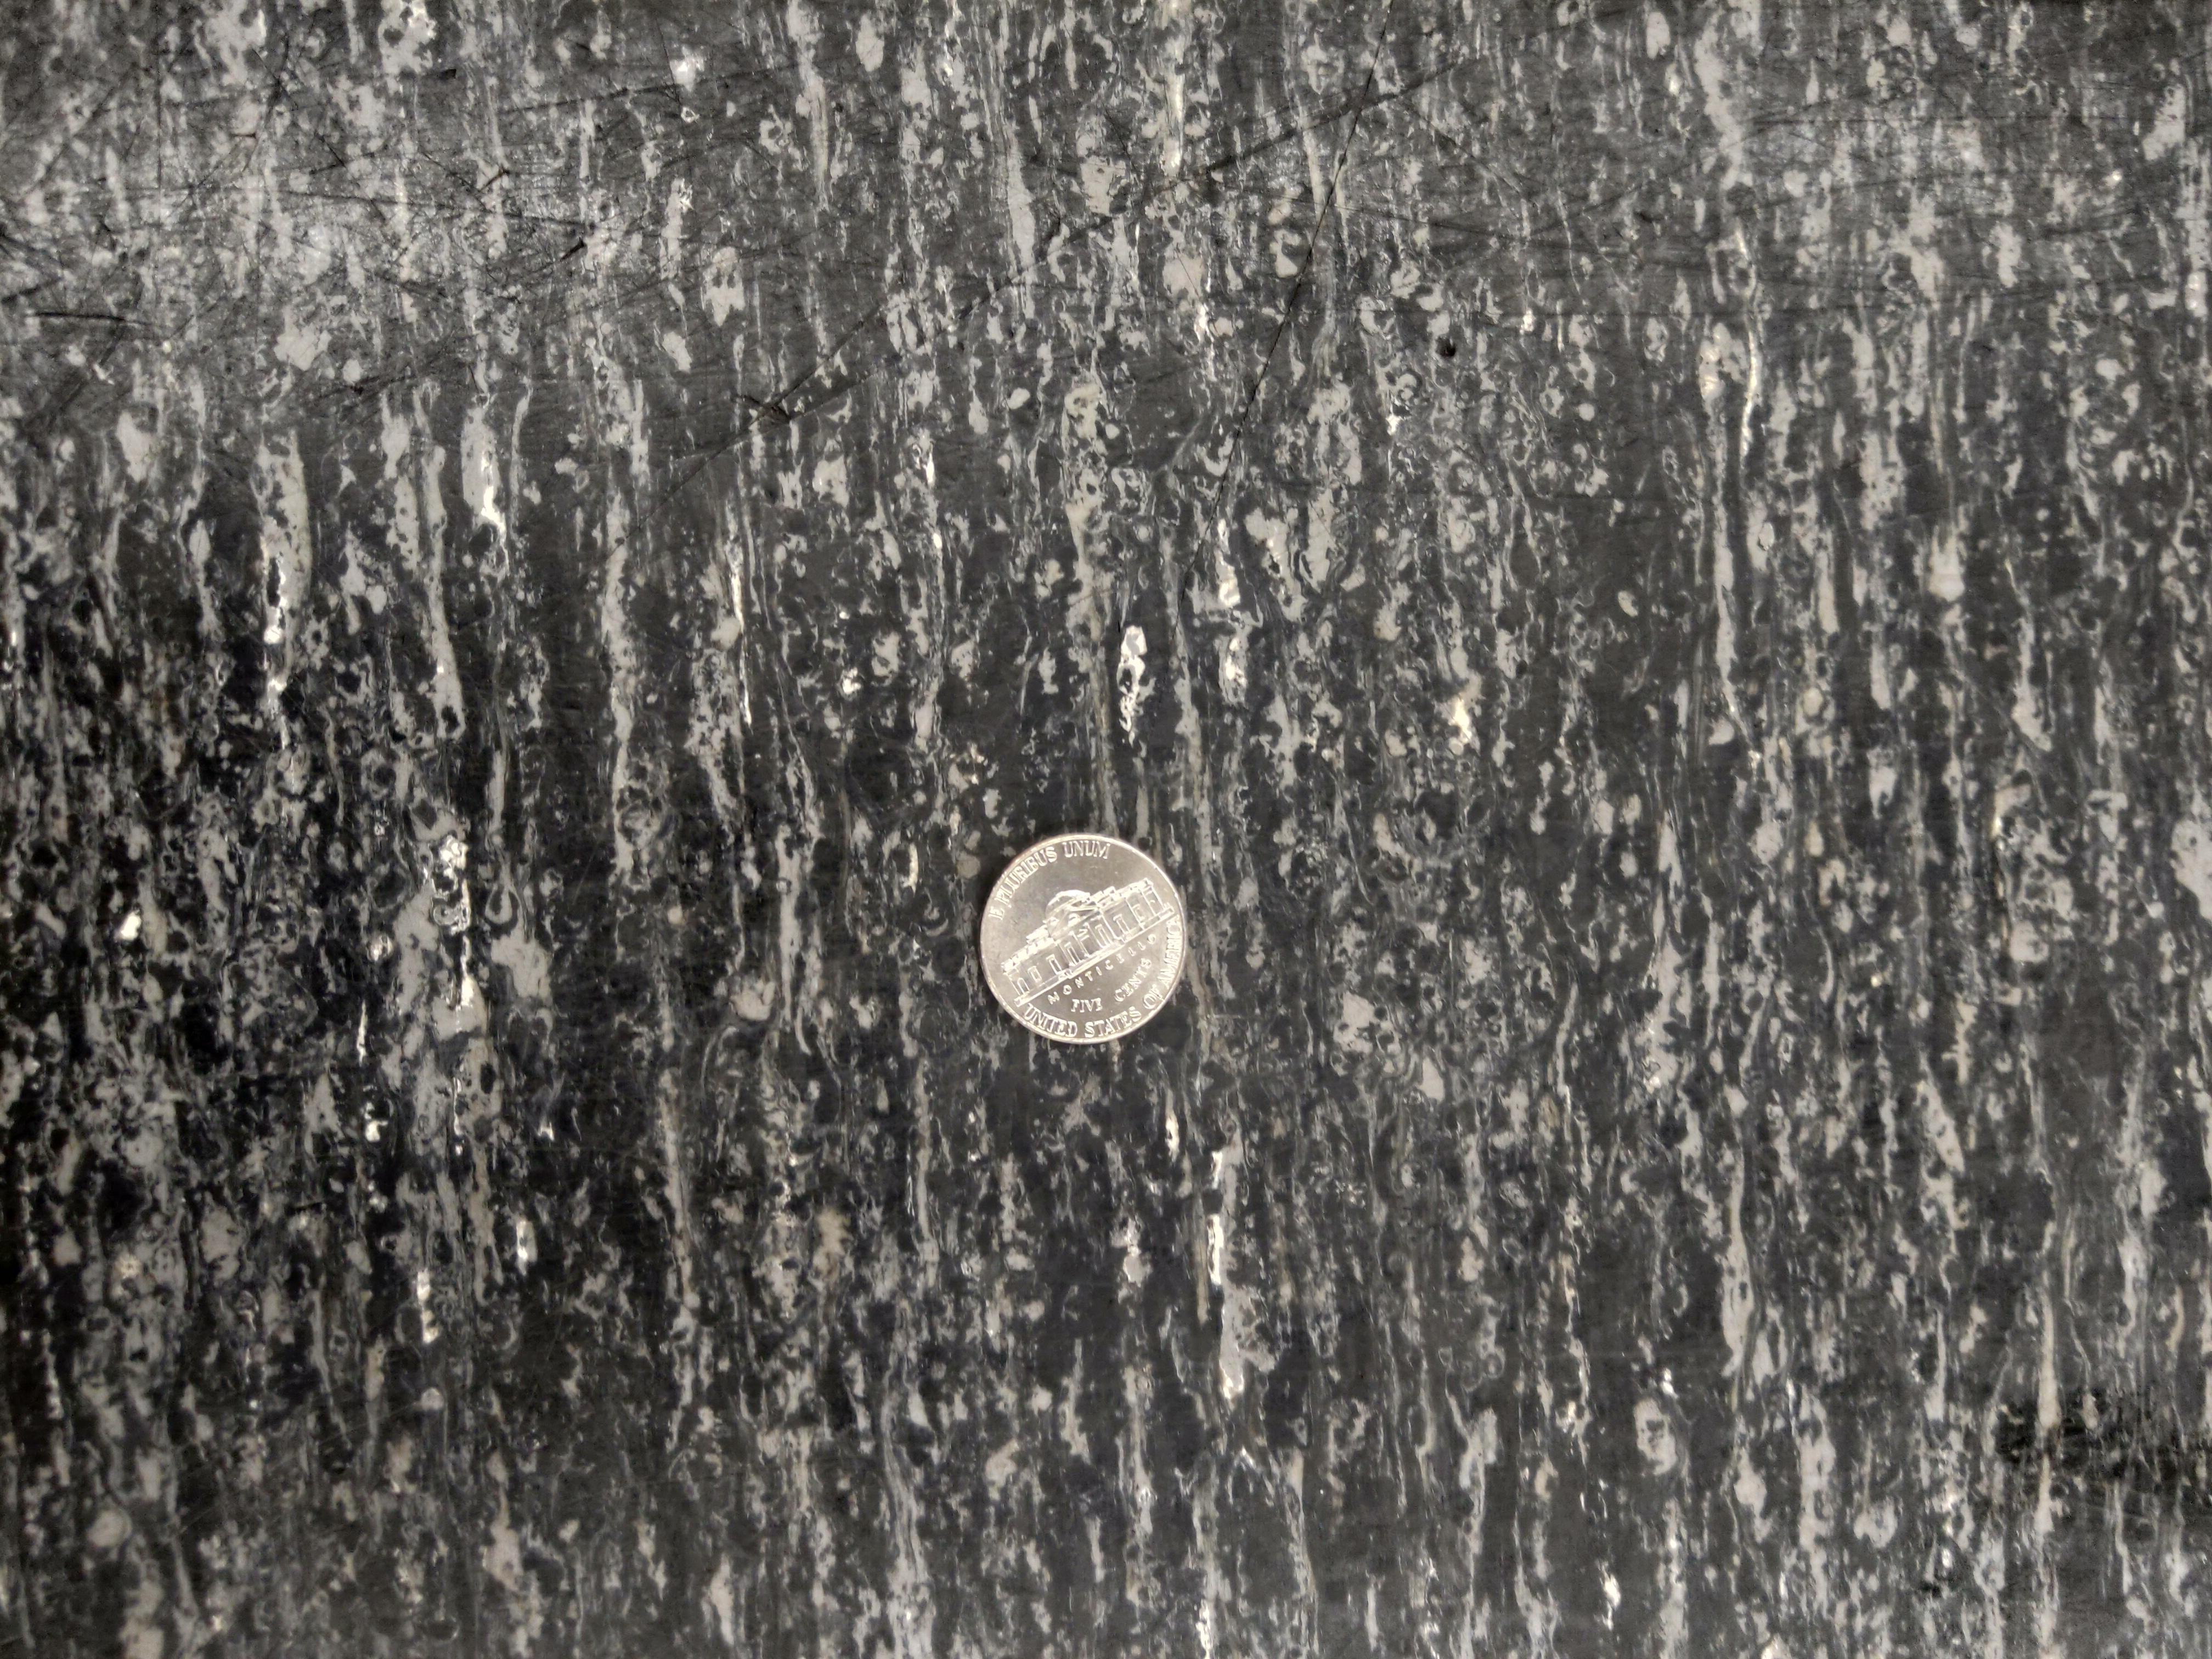Nickel: (979, 831, 1191, 1046)
